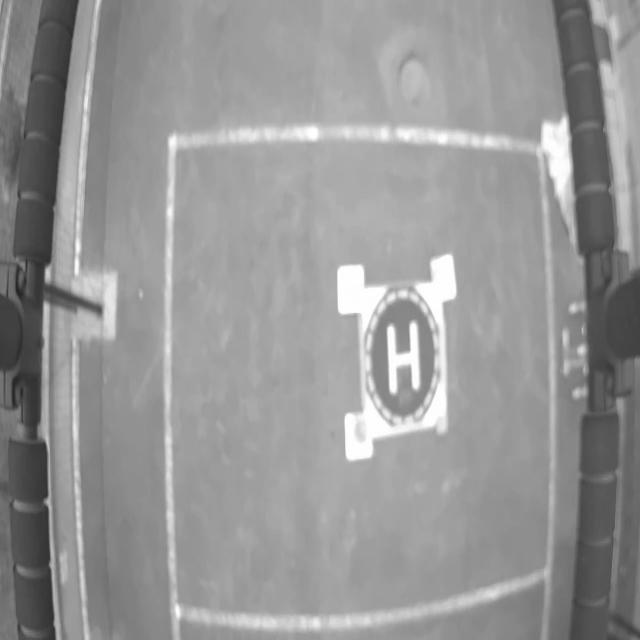Helipad: (386, 322, 421, 395)
